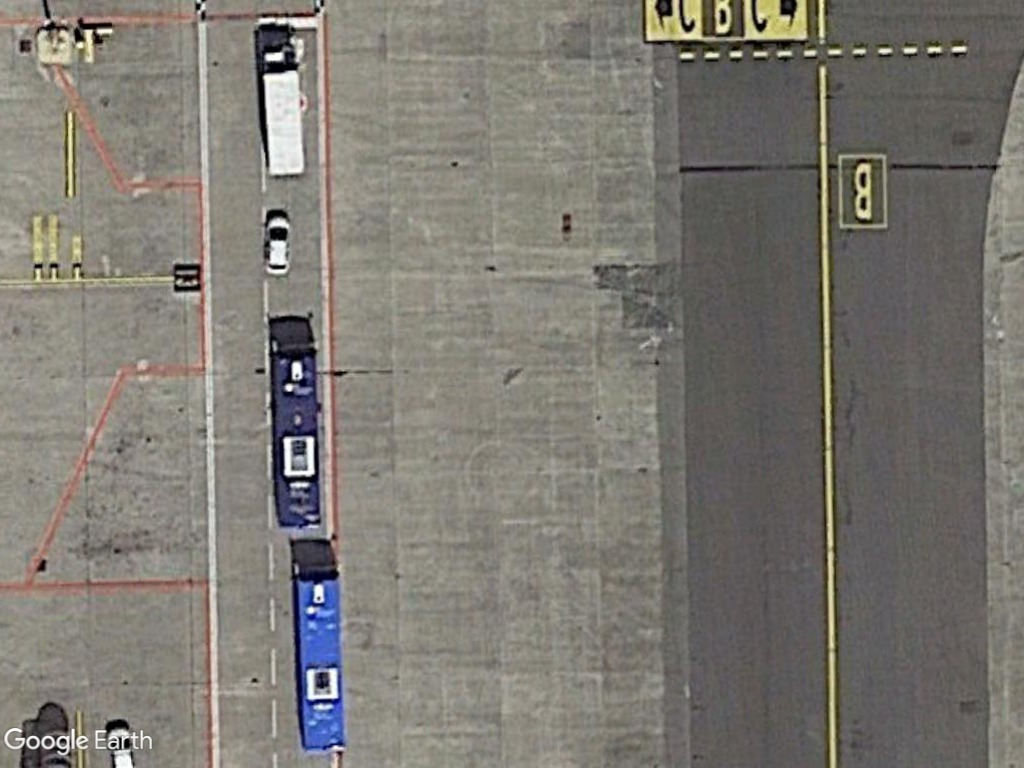bus: (288, 566, 351, 755), (268, 342, 326, 532)
car: (261, 212, 293, 277)
truck: (258, 47, 312, 179)
